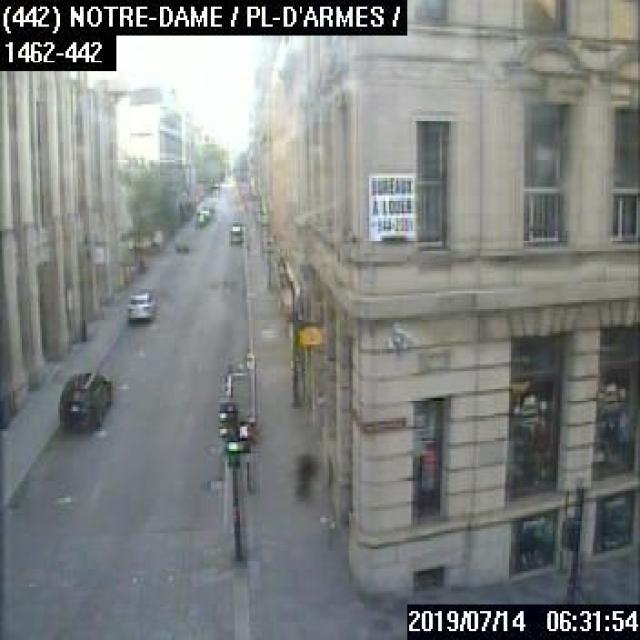pedestrian: (291, 451, 313, 502)
vehicle: (55, 369, 109, 427), (125, 291, 153, 320), (228, 224, 243, 243), (174, 237, 188, 251), (193, 211, 204, 224)
